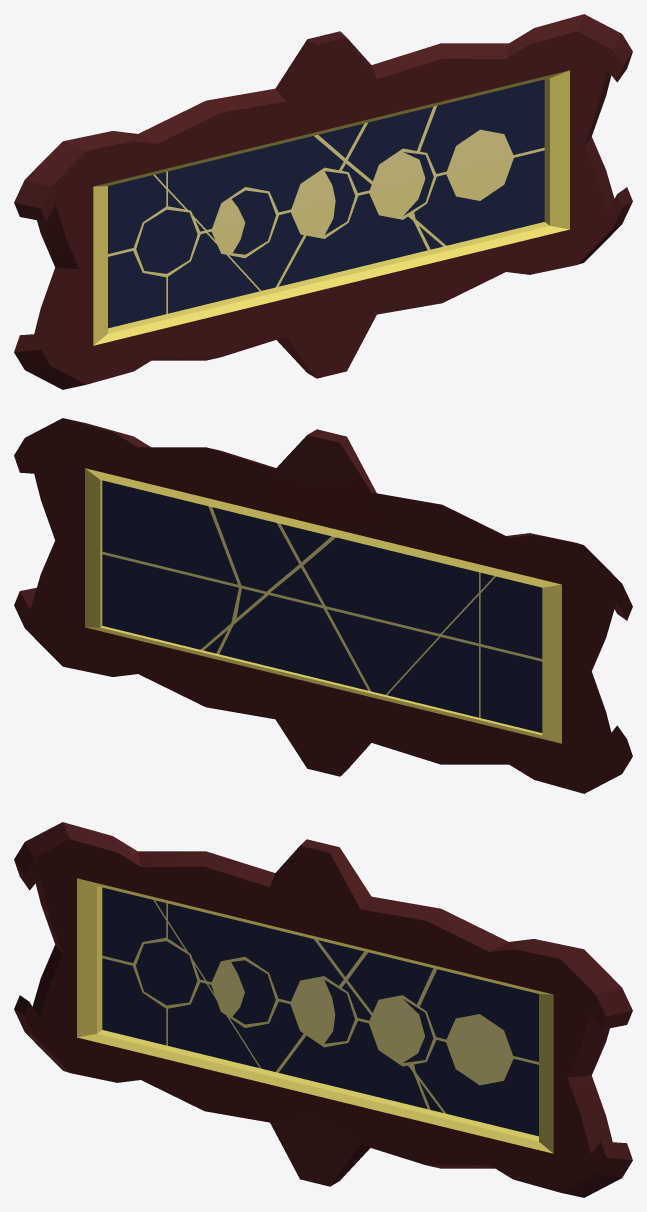
The model's file is SM_MoonPainting.fbx.
3 views of the same model, one above another, from view 1: azimuth 30°, elevation 25°; view 2: azimuth 150°, elevation 25°; view 3: azimuth 330°, elevation 25° (orthographic).
Visible parts, largest first — view 1: moonPainting_GEO; view 2: moonPainting_GEO; view 3: moonPainting_GEO.
Boxes of the visible parts, x1,y1,x2,y2 form: moonPainting_GEO: [14, 14, 632, 389]; moonPainting_GEO: [14, 418, 632, 793]; moonPainting_GEO: [14, 822, 632, 1197].
Bounding box in the file's own units: 123 × 63.14 × 3.65.
